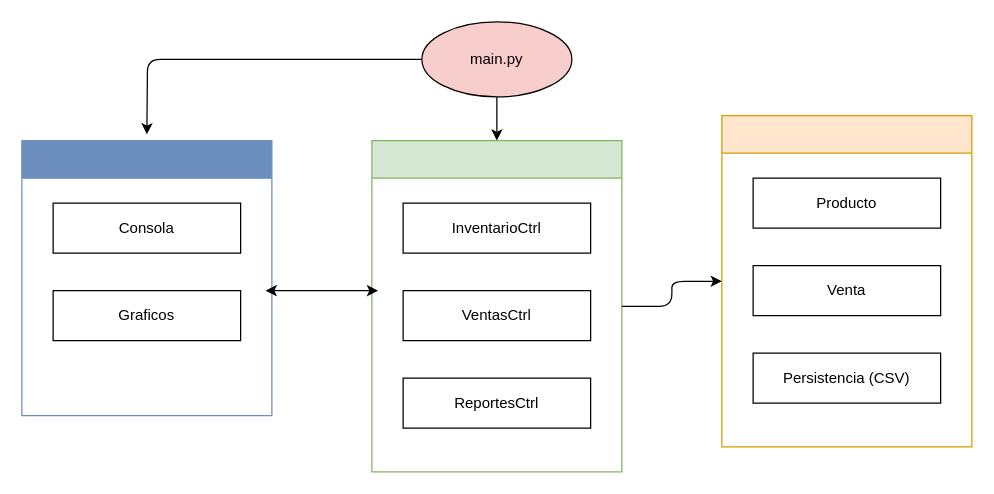
Some shapes in this 994 by 494 pixel diagram are drawn without their labels. Each missing label, with the box of its shape:
CONTROLADOR: (371, 139, 622, 472)
MODELO: (721, 114, 972, 447)
VISTA: (21, 139, 272, 416)
